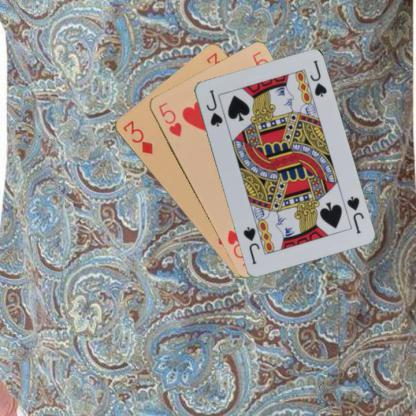3d: (119, 118, 154, 156)
5h: (156, 99, 184, 138)
Js: (344, 193, 364, 235), (204, 86, 224, 127)
